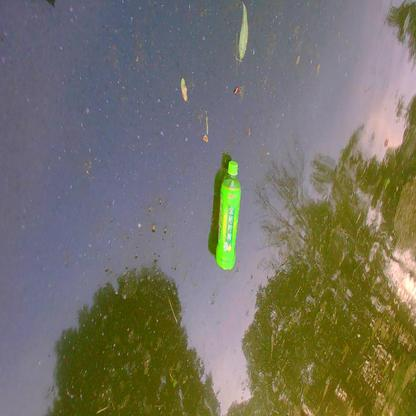plastic bottle: (215, 160, 242, 270)
